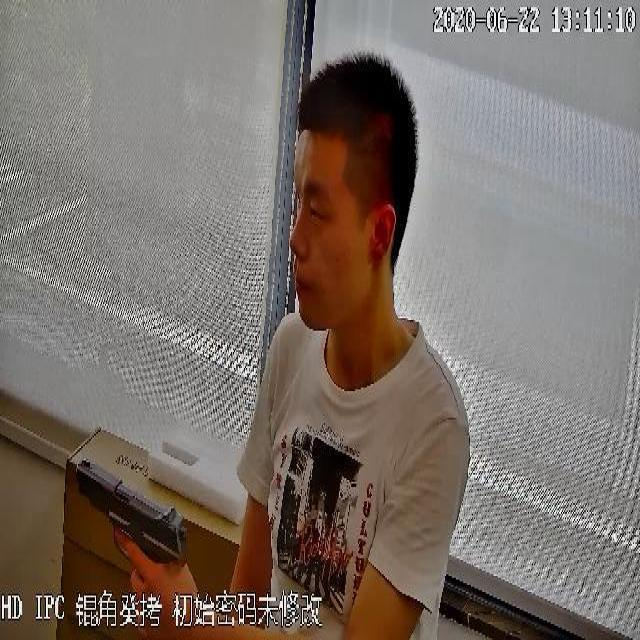pistol: (76, 452, 186, 576)
